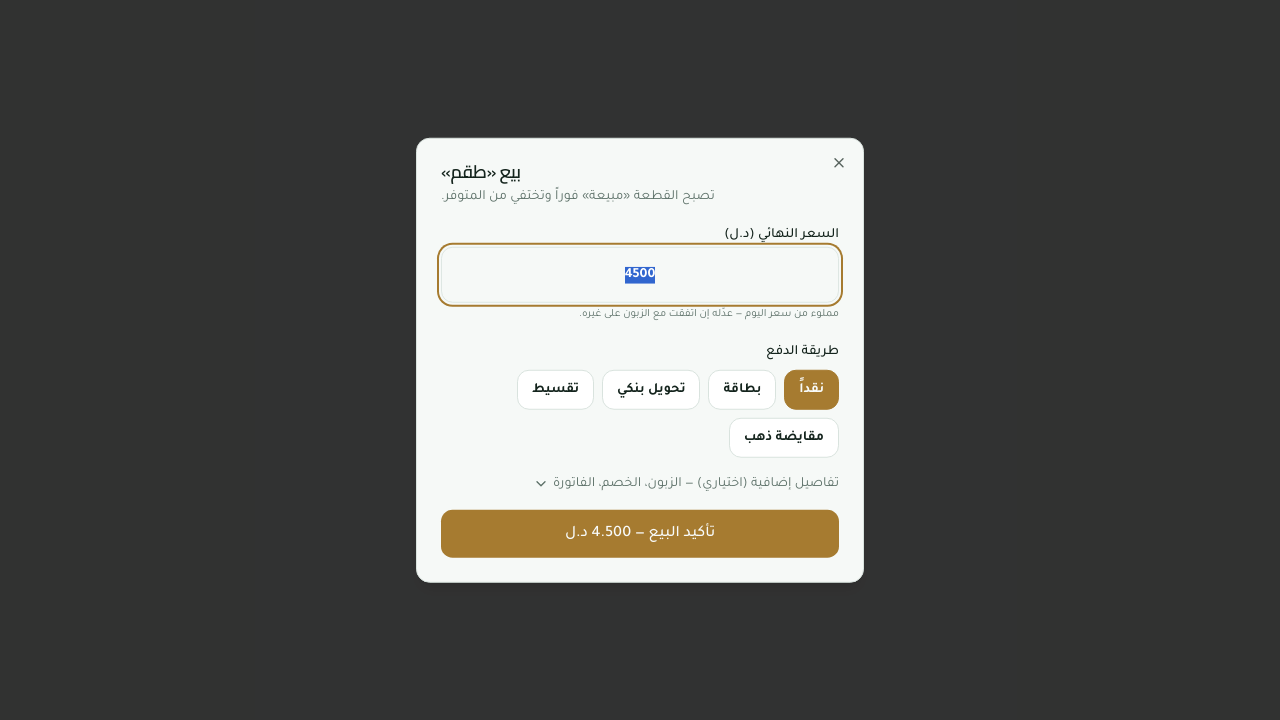
SellDialog › records the sale under the seller's branch and opens the receipt
What coordinates should you click on to do the following:
click the button "بطاقة"
I would click on:
 (742, 389)
Its box is 708,369 -> 776,409.
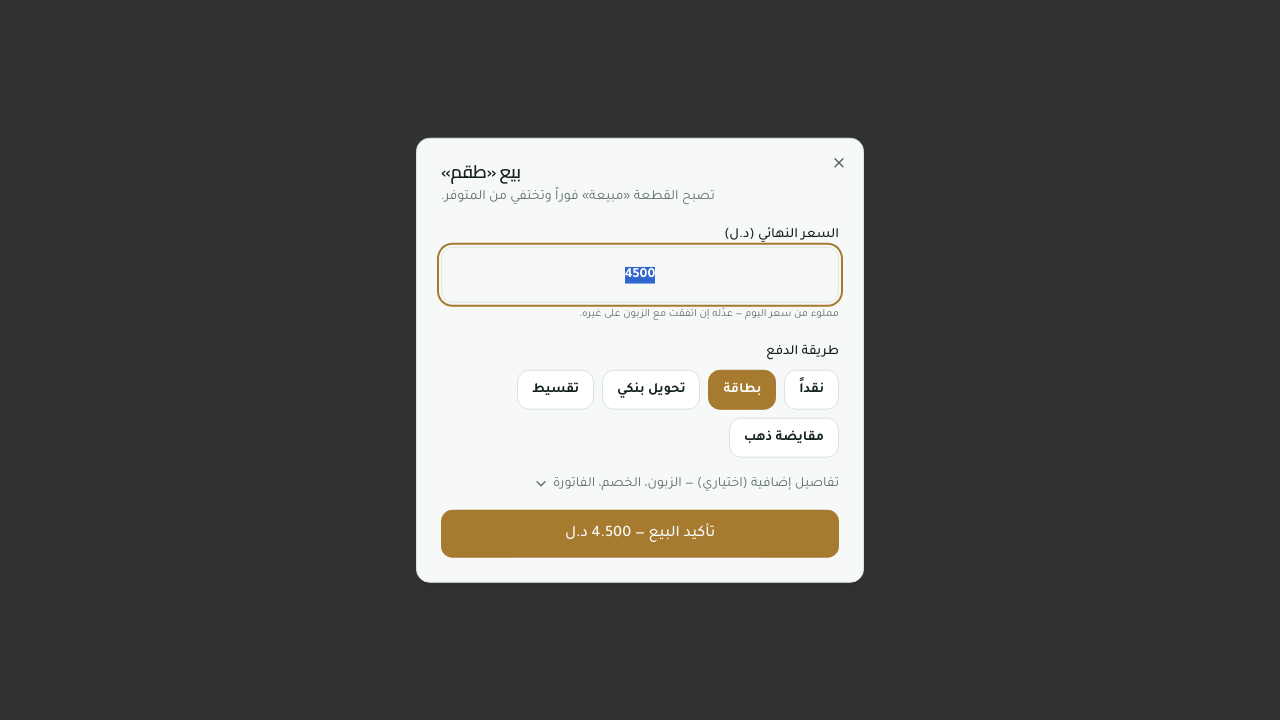
What coordinates should you click on to do the following:
click the button "تأكيد البيع — 4.500 د.ل"
I would click on:
 (640, 533)
Its box is 441,509 -> 839,557.
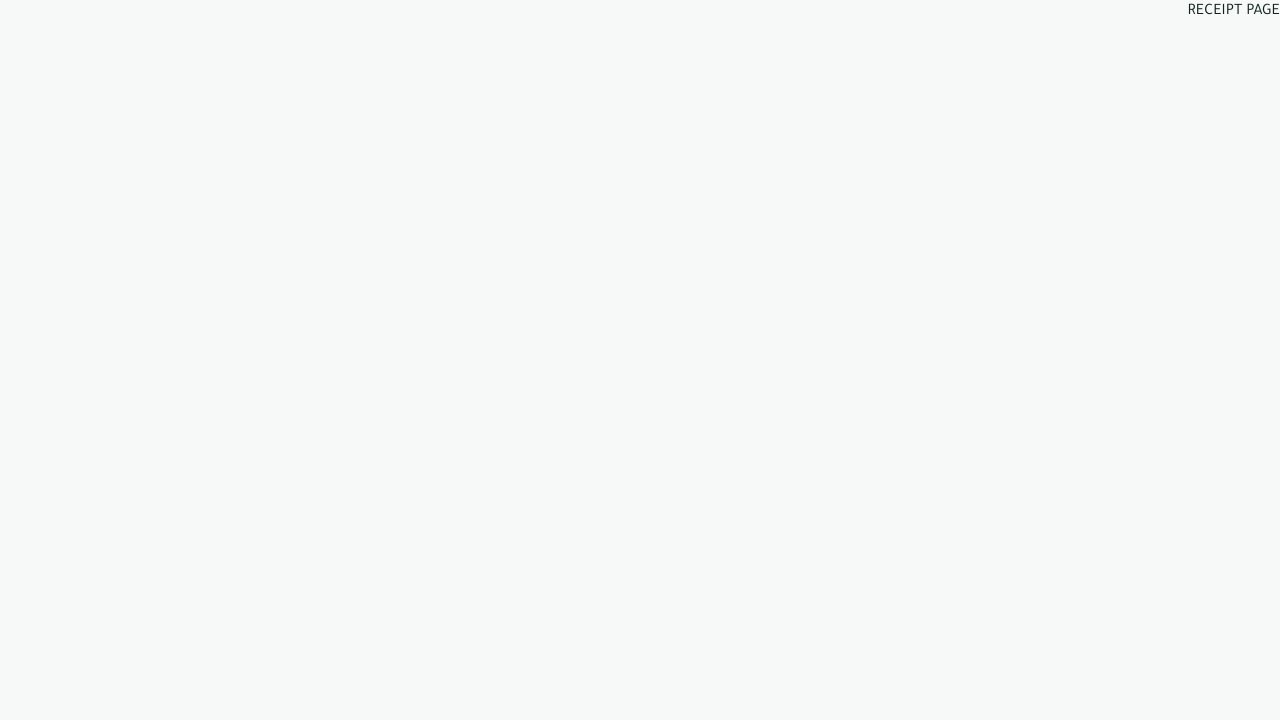
Result: the text "RECEIPT PAGE" is shown at 1188,4 -> 1279,20
